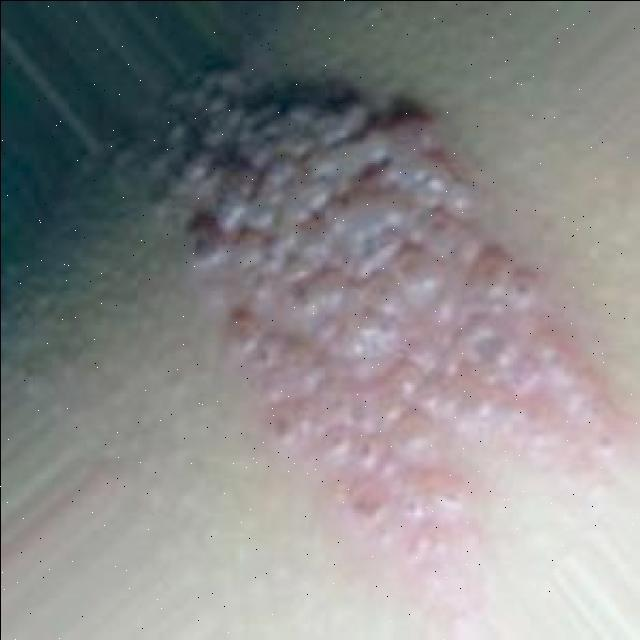Shingles: (150, 50, 624, 559)
